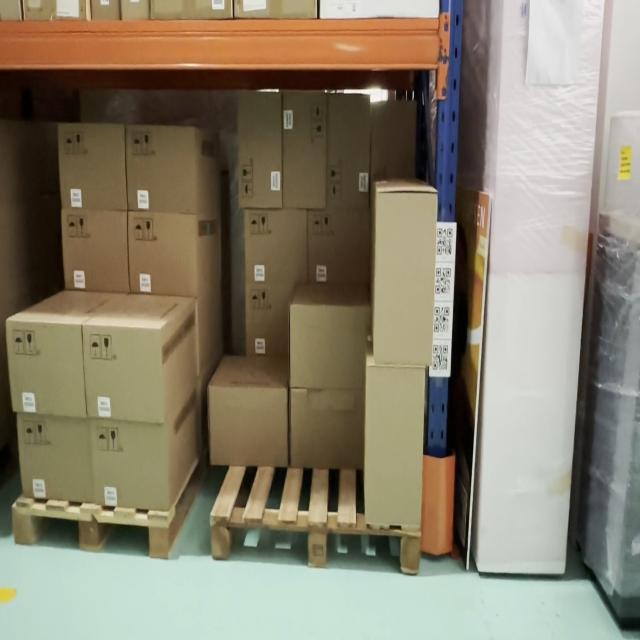box: (377, 192, 432, 364), (366, 368, 422, 524), (84, 325, 162, 418), (91, 421, 168, 509), (17, 414, 94, 501), (210, 390, 288, 463), (126, 128, 195, 210), (13, 326, 81, 409), (291, 390, 363, 467), (291, 308, 363, 384), (62, 211, 128, 290), (63, 125, 123, 206), (132, 214, 195, 291), (284, 91, 324, 206), (240, 94, 280, 203), (328, 94, 368, 203), (309, 210, 369, 278), (248, 211, 305, 281), (246, 285, 288, 353)
